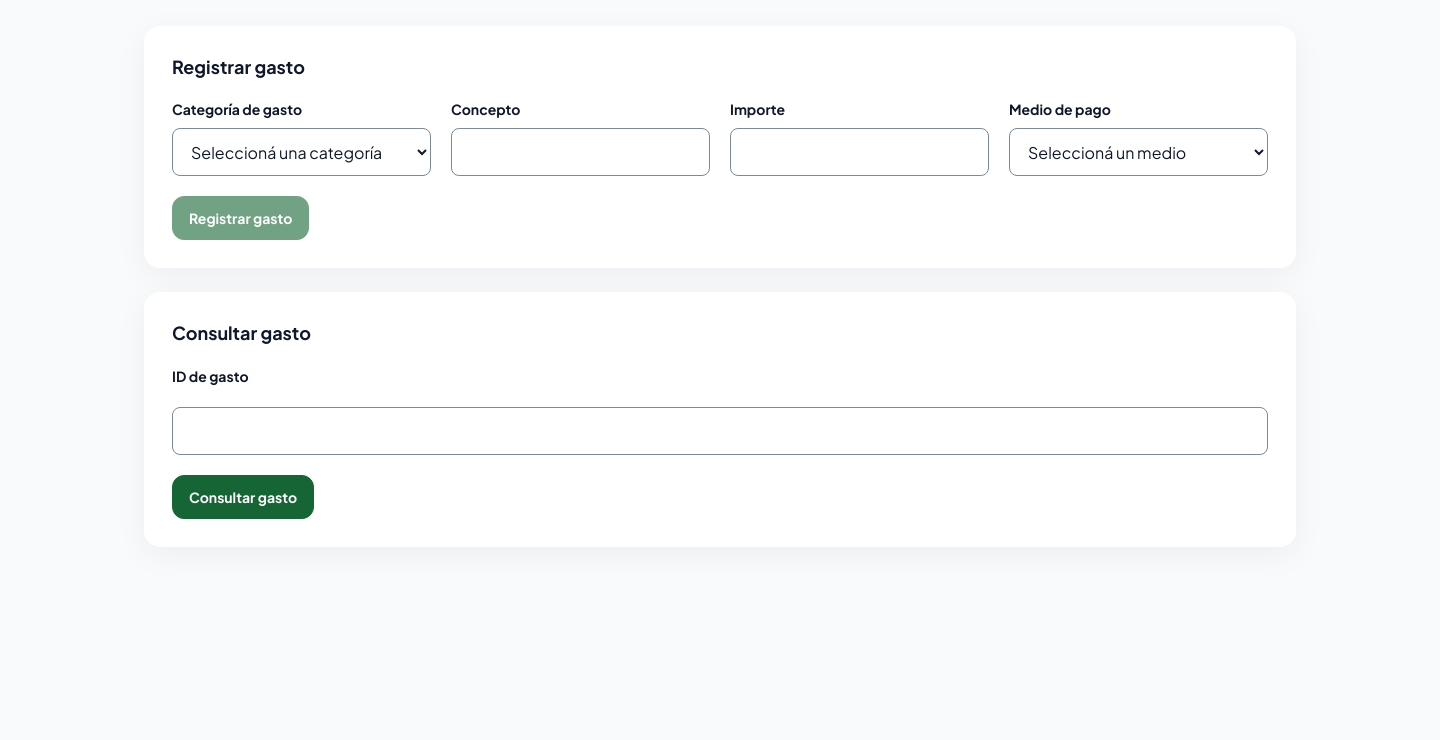
Test: T173B cancels cash expense using a valid session and hides repeat cancellation
In the field labelled "ID de gasto": (720, 431) [172,407,1268,455], type "11111111-1111-4111-8111-111111111111"
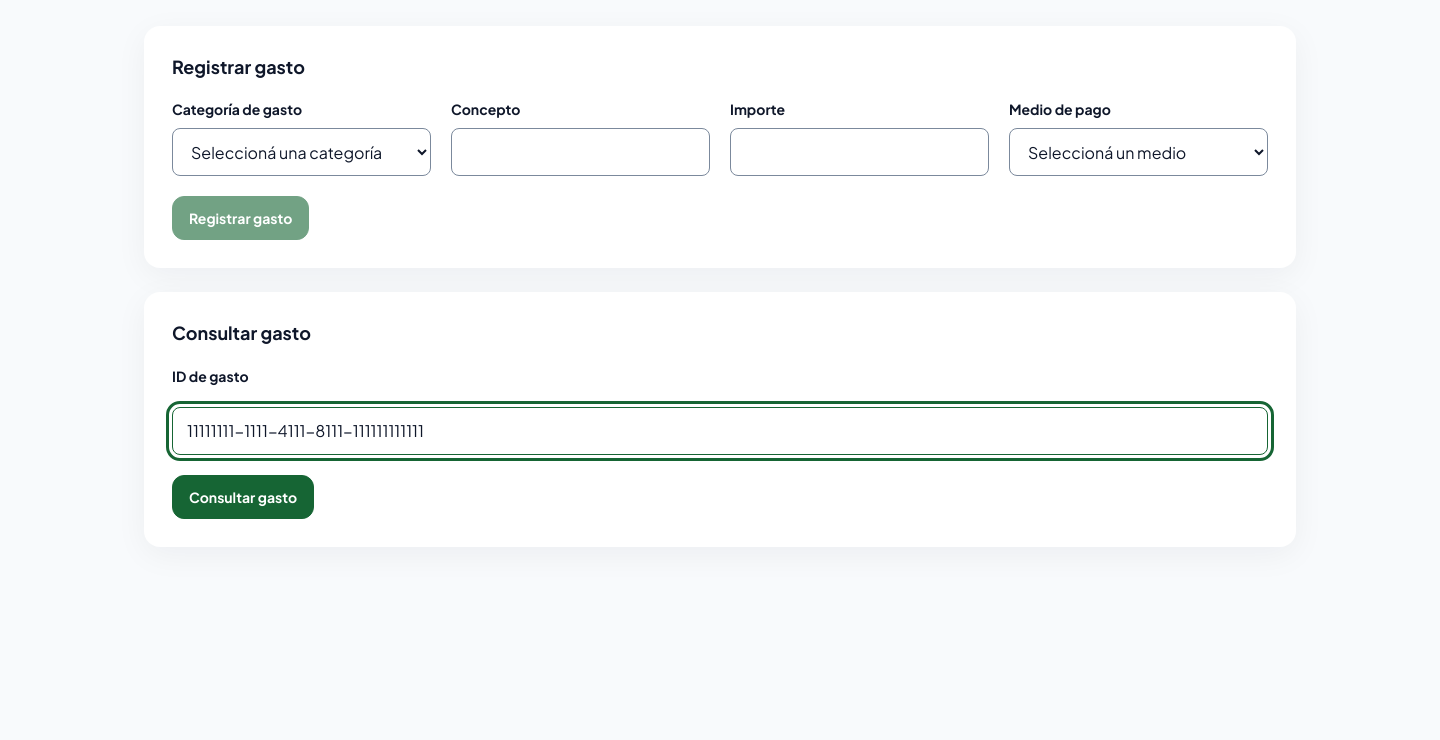
Click the button "Consultar gasto": (243, 497) [172,475,314,519]
(page scrolled)
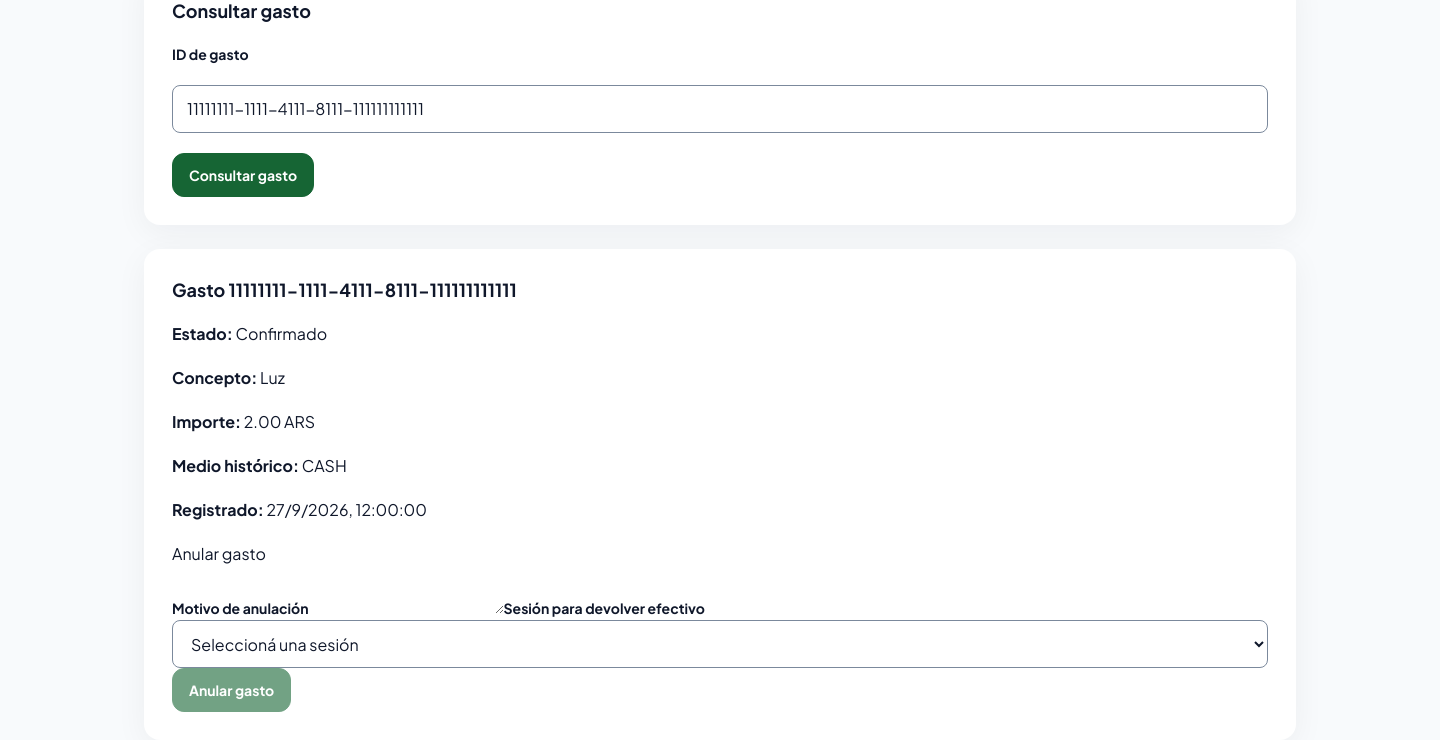
In the text box labelled "Motivo de anulación": (406, 590) [308,566,504,614], type "Error"
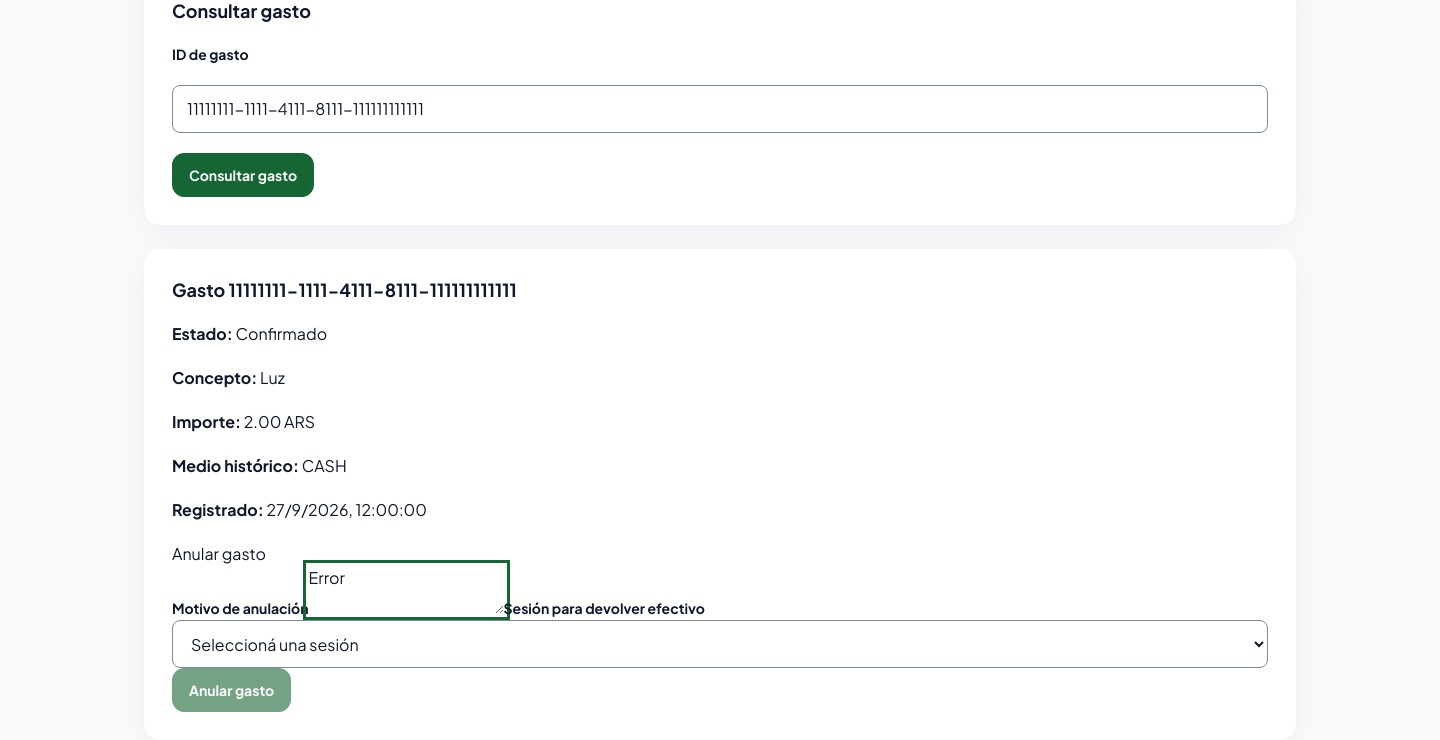
Select "Caja" in the dropdown labelled "Sesión para devolver efectivo": (720, 644) [172,620,1268,668]
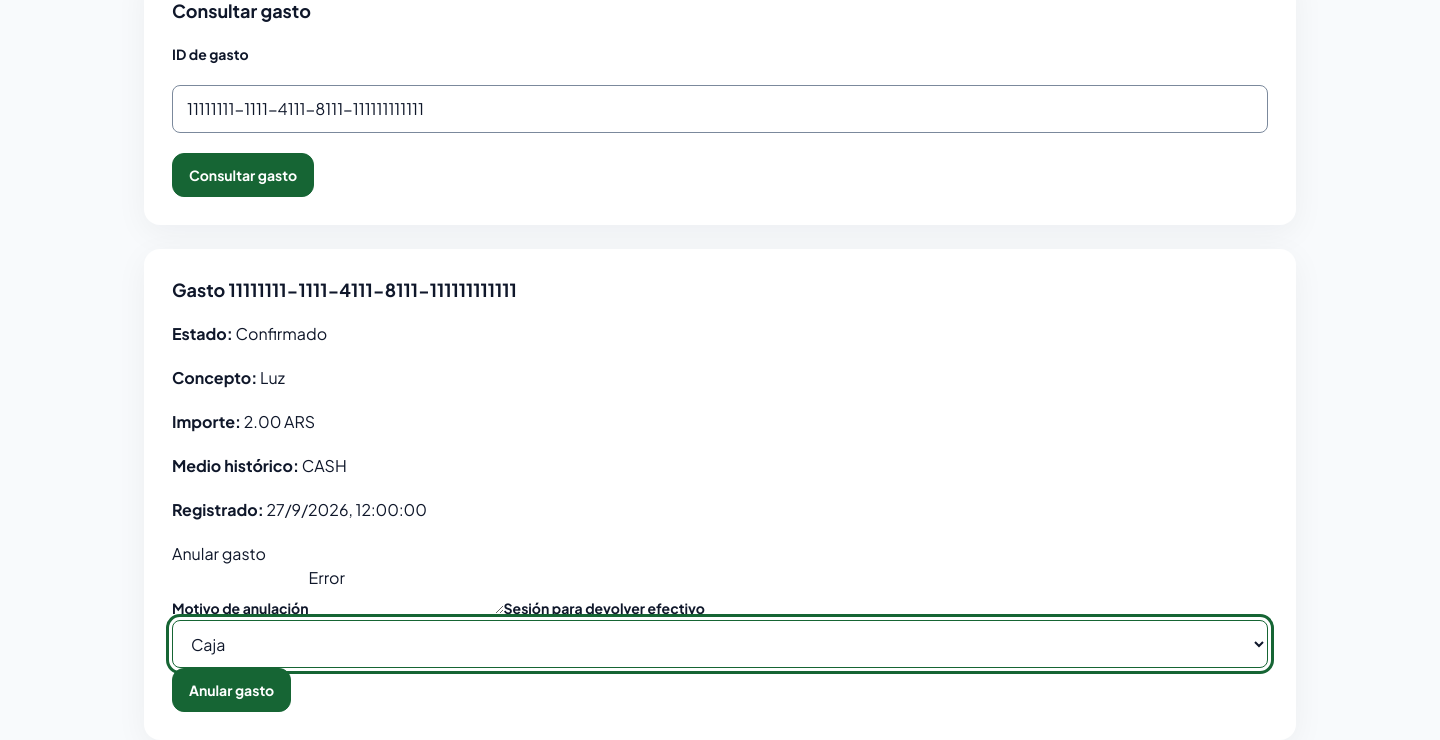
Click the button "Anular gasto": (232, 690) [172,668,291,712]
(page scrolled)
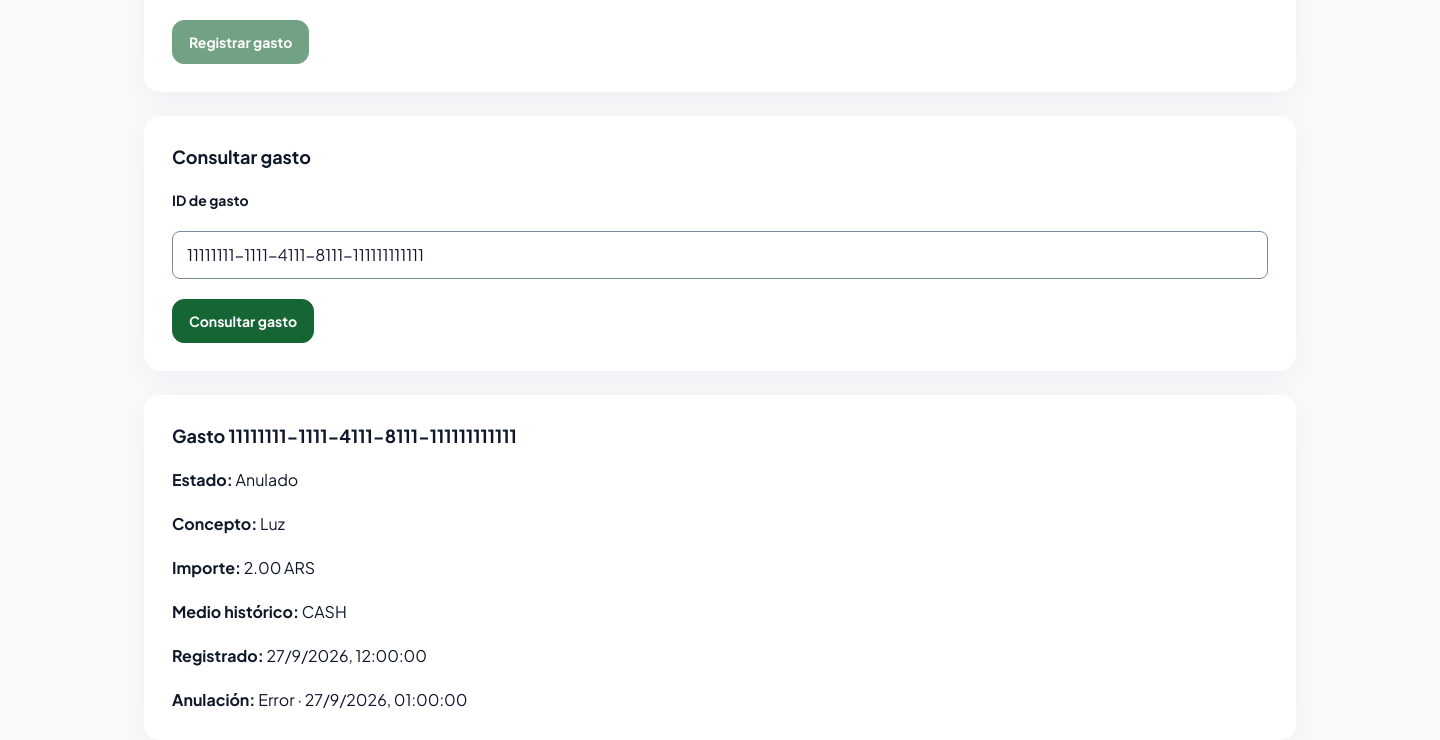
Check: the text "Anulado" is shown, box [236,469,298,490]
Check: the heading "Anular gasto" is gone
